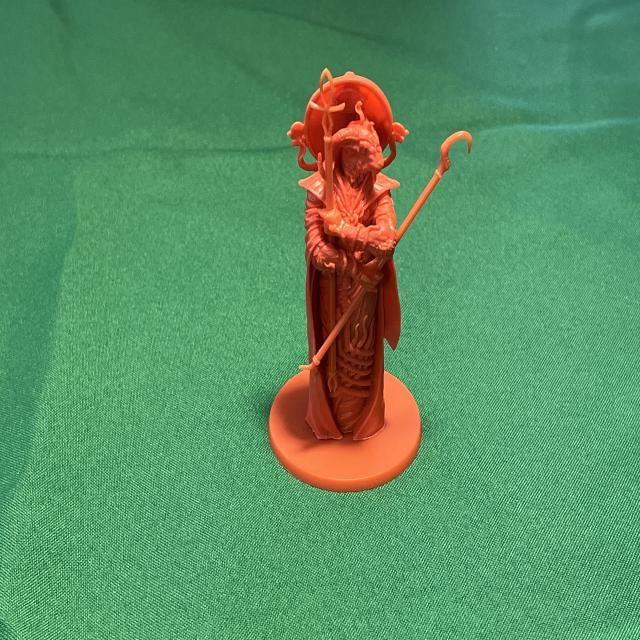amon: (261, 62, 475, 502)
